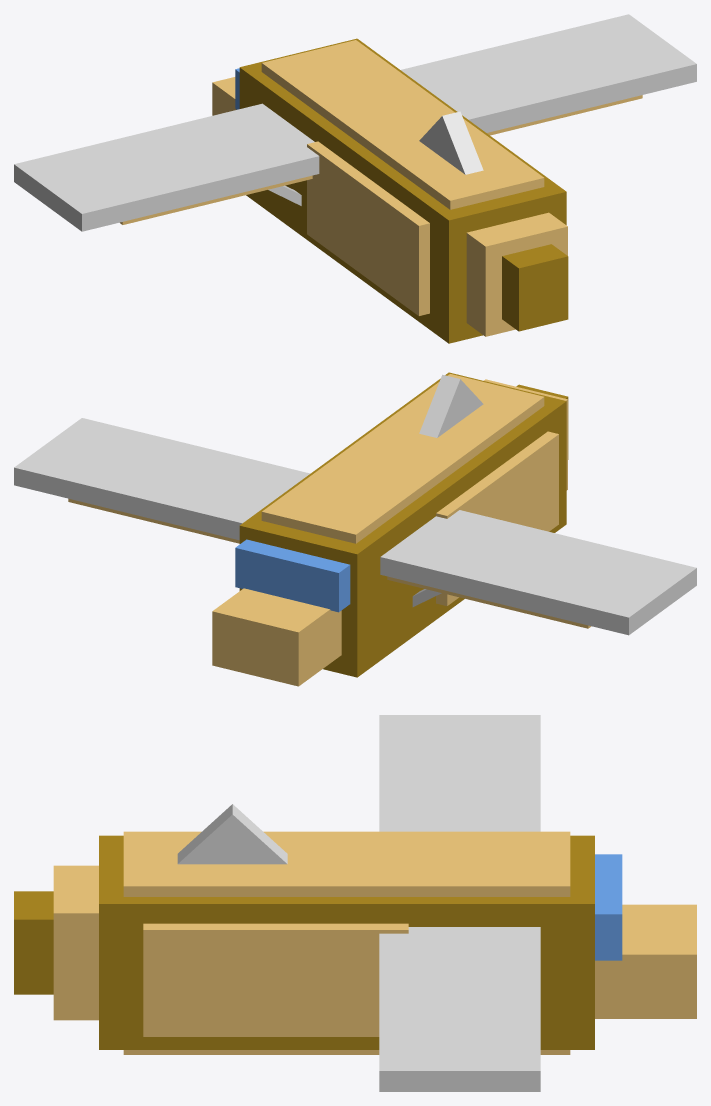
3 views of the same model, one above another, from view 1: azimuth 30°, elevation 25°; view 2: azimuth 150°, elevation 25°; view 3: azimuth 270°, elevation 25° (orthographic). The views are drawn at different scales.
Parts seen in each view (by area): view 1: Cube.001, Cube.009, Cube, Cube.008, Cube.006, Cube.007, Cube.002, Cube.010, Cube.012; view 2: Cube.001, Cube.009, Cube, Cube.012, Cube.008, Cube.011, Cube.002, Cube.010; view 3: Cube.001, Cube, Cube.009, Cube.008, Cube.012, Cube.006, Cube.007, Cube.002, Cube.011.
Boxes of the visible parts, box(x1,y1,x2,y2) form: Cube.001: box(14, 14, 696, 231); Cube.009: box(261, 40, 544, 209); Cube: box(239, 38, 566, 343); Cube.008: box(307, 141, 429, 315); Cube.006: box(466, 212, 567, 336); Cube.007: box(502, 244, 568, 331); Cube.002: box(419, 111, 483, 174); Cube.010: box(120, 95, 642, 224); Cube.012: box(212, 77, 236, 115); Cube.001: box(14, 418, 696, 635); Cube.009: box(261, 374, 544, 543); Cube: box(239, 372, 566, 677); Cube.012: box(212, 588, 341, 686); Cube.008: box(436, 431, 558, 605); Cube.011: box(235, 539, 350, 612); Cube.002: box(419, 374, 483, 437); Cube.010: box(68, 498, 590, 628); Cube.001: box(379, 715, 540, 1091); Cube: box(99, 835, 594, 1049); Cube.009: box(123, 831, 570, 1054); Cube.008: box(143, 923, 408, 1036); Cube.012: box(595, 904, 696, 1018); Cube.006: box(53, 865, 98, 1020); Cube.007: box(14, 891, 53, 994); Cube.002: box(177, 804, 287, 864); Cube.011: box(595, 854, 622, 960).
Size of the model in its own units: 10.44 by 2.99 by 8.47.
